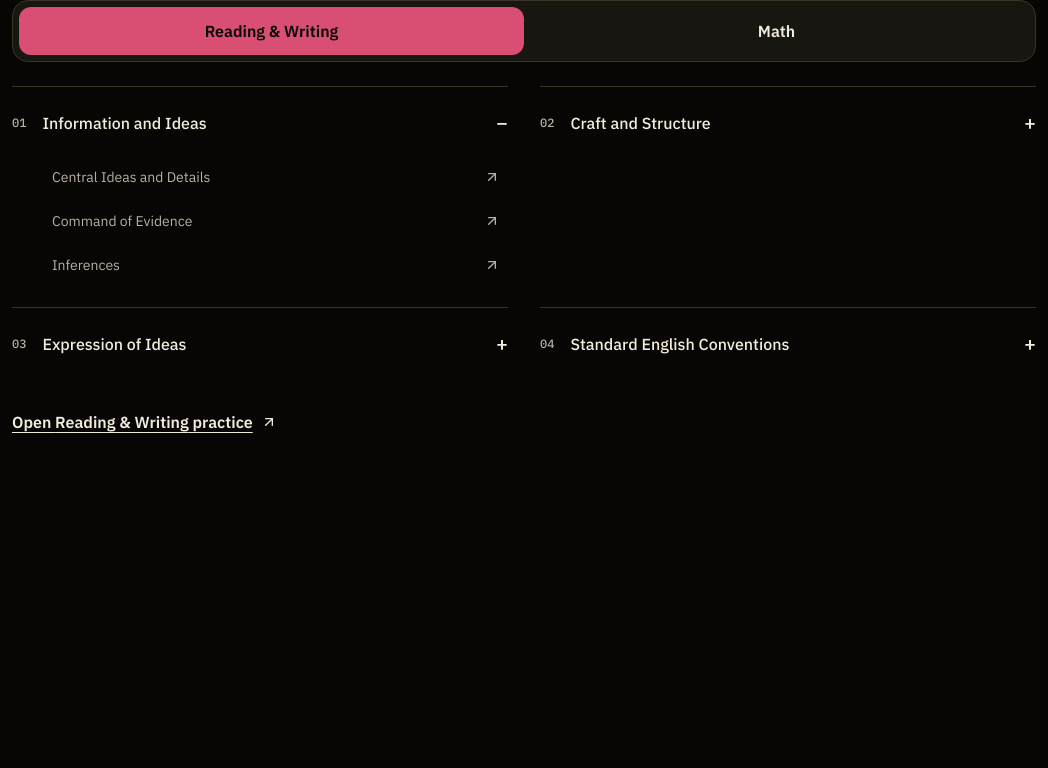
Scenario: initially exposes the named reading skills and resets the open domain when switching subjects
Check: the link "Central Ideas and Details" is shown, box x1=52 y1=168 x2=500 y2=186
Check: the link "Command of Evidence" is shown, box x1=52 y1=212 x2=500 y2=230
Click the button "Math": (776, 31) x1=524 y1=7 x2=1029 y2=55
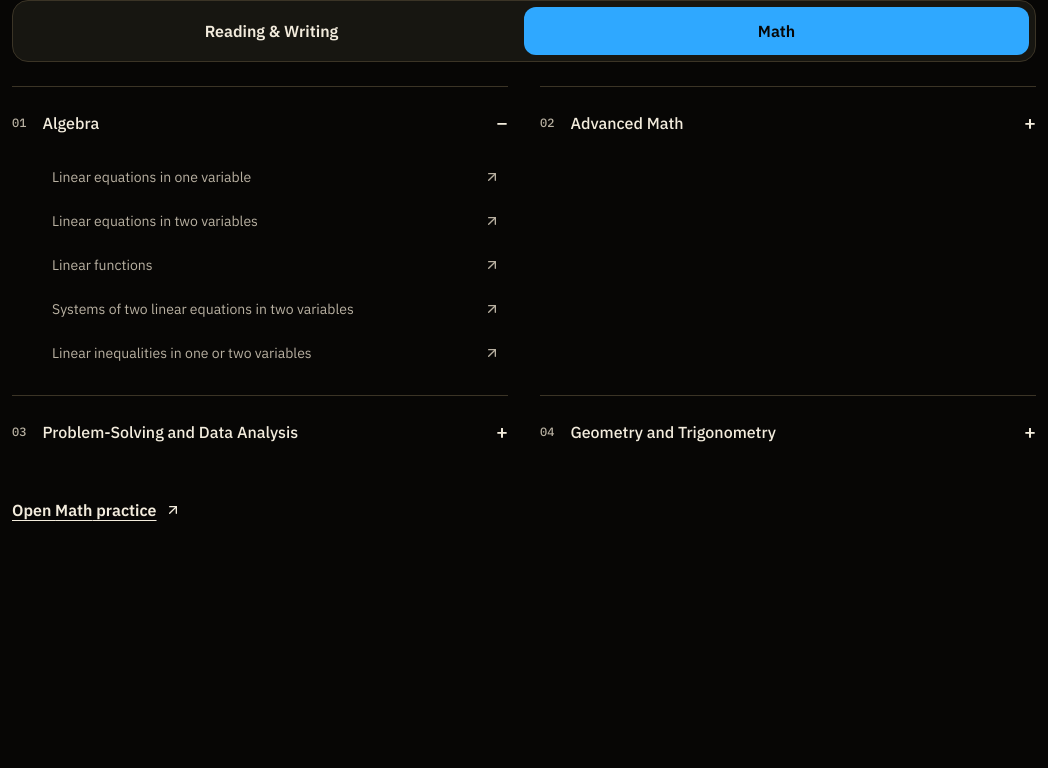
Check: the link "Inferences" is gone
